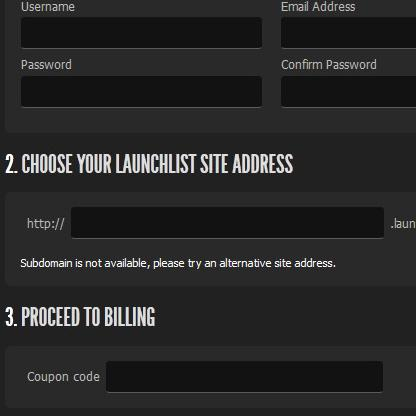field: (65, 205, 387, 240), (102, 359, 385, 393), (20, 13, 265, 49), (18, 74, 263, 109)
field_with_label: (27, 202, 390, 243), (28, 357, 388, 395), (16, 58, 265, 111)
